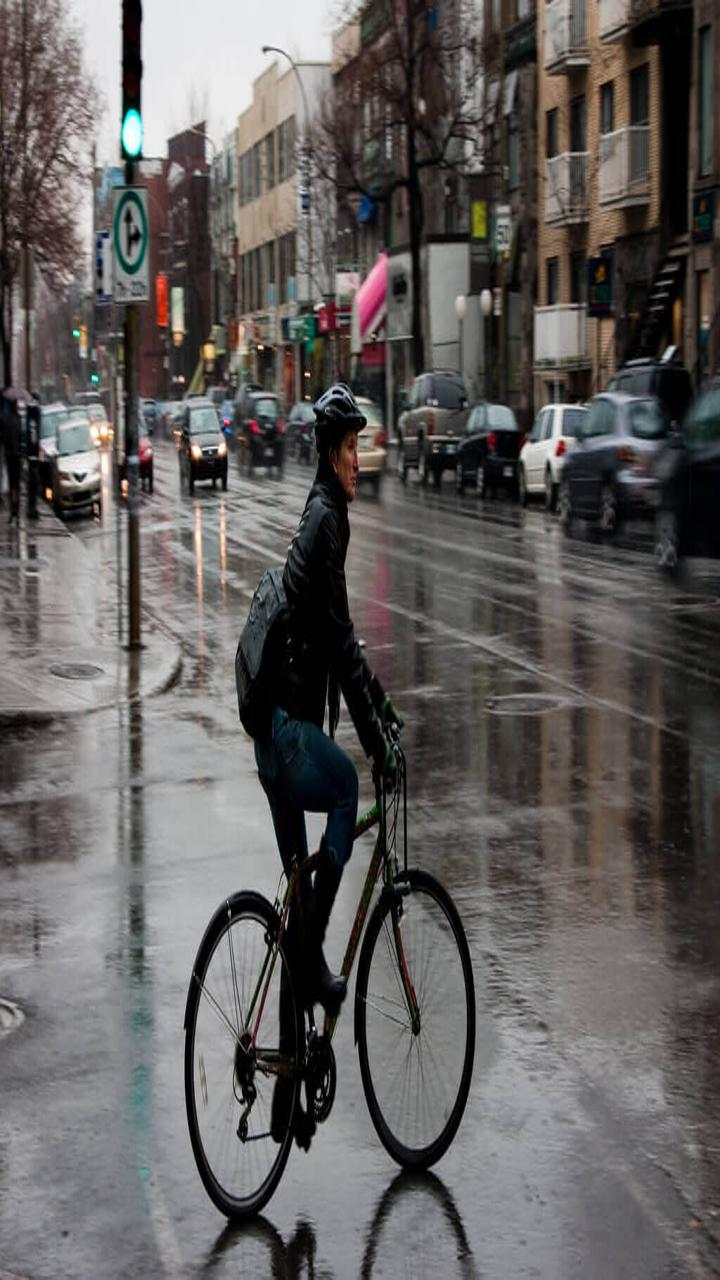bicycle: (140, 755, 598, 1229)
cyclist: (230, 372, 407, 1177)
vehicle: (32, 391, 115, 531), (394, 361, 467, 476), (166, 393, 242, 495), (232, 369, 302, 472)
